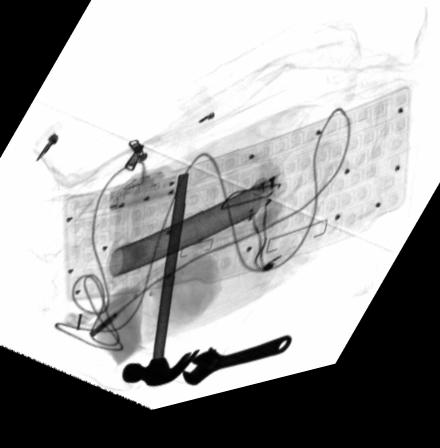Hammer: (120, 180, 199, 394)
Wrench: (181, 350, 292, 396)
